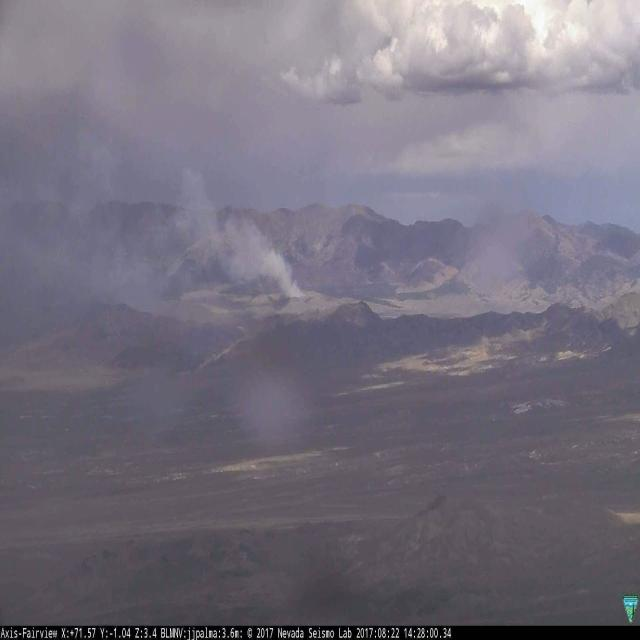smoke: (171, 175, 307, 299)
